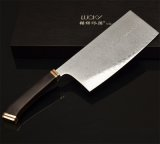knief: (10, 8, 153, 123)
